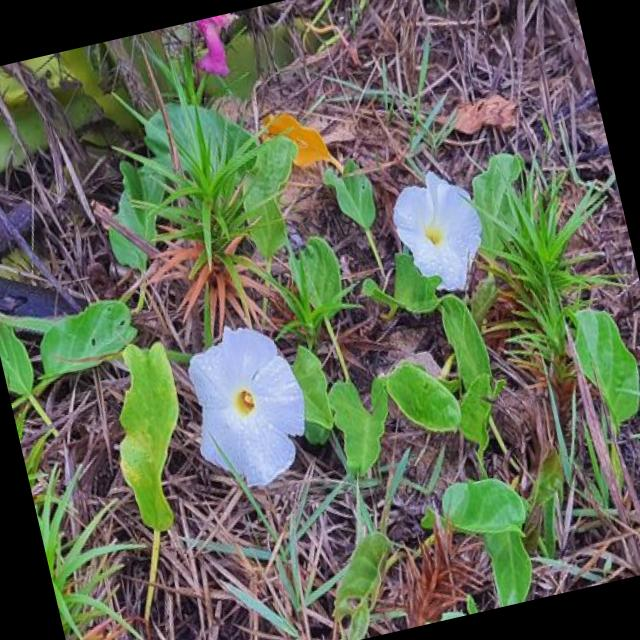ipomoea: (170, 310, 324, 502), (378, 158, 499, 308)
